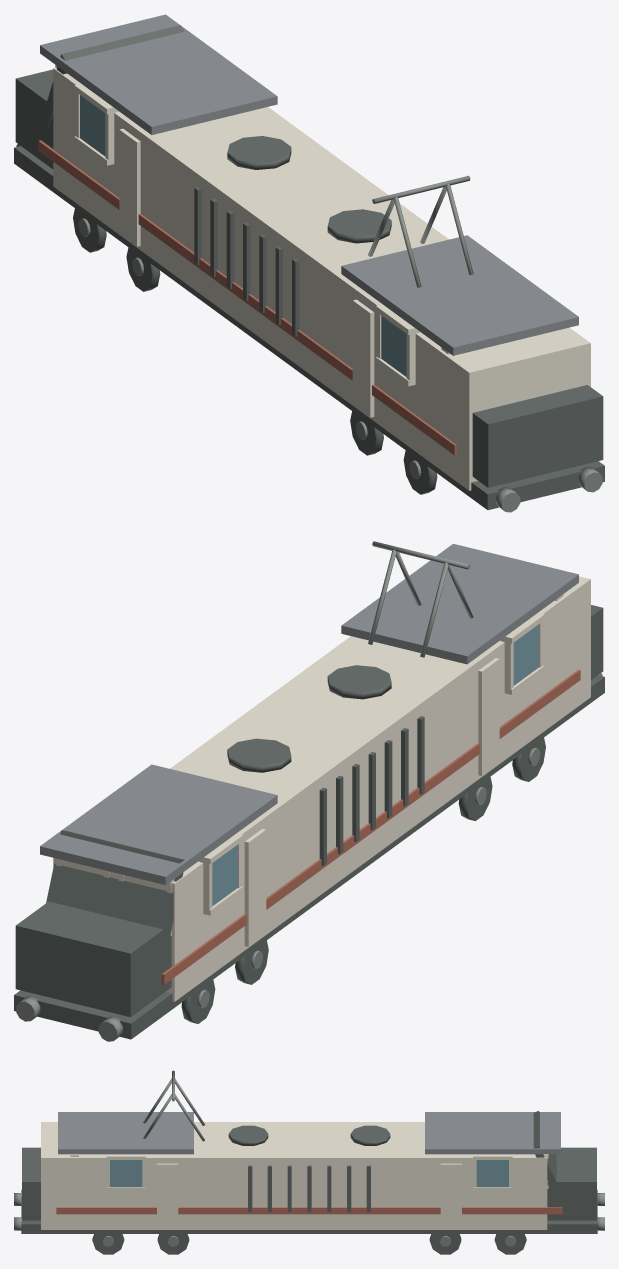
The model's file is tyne-class91_lod1.glb.
3 renders of one model, top to bottom at view 1: azimuth 30°, elevation 25°; view 2: azimuth 150°, elevation 25°; view 3: azimuth 270°, elevation 25°, orthographic. The views are drawn at different scales.
Visible parts, largest first — view 1: RF_EngineBody, RF_CabRoof.001, RF_CabRoof, RF_Nose.001, RF_Chassis, RF_BodyStripe.001, RF_Nose, RF_CabDoor.001, RF_CabDoor.003, RF_RoofFan, RF_RoofFan.001, RF_RakedCab (+7 smaller); view 2: RF_EngineBody, RF_CabRoof, RF_CabRoof.001, RF_Nose, RF_Chassis, RF_RakedCab, RF_BodyStripe.001, RF_CabDoor.003, RF_CabDoor.001, RF_RoofFan, RF_RoofFan.001, RF_Window.007 (+7 smaller); view 3: RF_EngineBody, RF_CabRoof.001, RF_CabRoof, RF_BodyStripe, RF_Nose, RF_Chassis, RF_CabDoor.002, RF_CabDoor, RF_Nose.001, RF_Window.004, RF_Window, RF_RakedCab (+6 smaller).
Part boxes in pixels (x1,y1,x2,y2): RF_EngineBody: (53,67,590,490); RF_CabRoof.001: (341,235,578,355); RF_CabRoof: (40,14,277,134); RF_Nose.001: (472,385,603,487); RF_Chassis: (14,146,604,509); RF_BodyStripe.001: (38,140,456,455); RF_Nose: (15,69,53,169); RF_CabDoor.001: (352,299,374,417); RF_CabDoor.003: (119,128,140,246); RF_RoofFan: (227,136,291,169); RF_RoofFan.001: (327,209,391,243); RF_RakedCab: (42,25,184,126); RF_EngineBody: (53,576,590,1001); RF_CabRoof: (40,764,277,884); RF_CabRoof.001: (341,543,578,664); RF_Nose: (15,901,171,1017); RF_Chassis: (14,675,604,1039); RF_RakedCab: (46,830,184,952); RF_BodyStripe.001: (161,669,580,984); RF_CabDoor.003: (244,829,266,946); RF_CabDoor.001: (478,658,499,775); RF_RoofFan: (227,738,291,772); RF_RoofFan.001: (327,665,391,699); RF_Window.007: (212,845,237,906); RF_EngineBody: (41,1122,547,1229); RF_CabRoof.001: (58,1112,193,1154); RF_CabRoof: (425,1112,560,1154); RF_BodyStripe: (56,1207,562,1214); RF_Nose: (547,1147,596,1220); RF_Chassis: (21,1189,597,1233); RF_CabDoor.002: (157,1163,178,1228); RF_CabDoor: (440,1163,461,1228); RF_Nose.001: (22,1147,40,1220); RF_Window.004: (110,1160,142,1187); RF_Window: (476,1160,508,1187); RF_RakedCab: (533,1111,562,1196).
Bounding box in the file's own units: 3.14 × 5.53 × 19.38.
